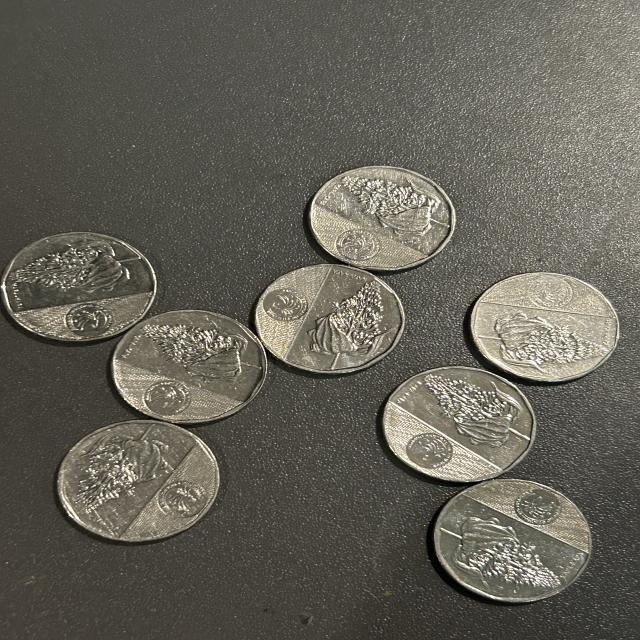10_New_Back: (447, 495, 578, 597), (408, 376, 525, 479), (19, 233, 140, 332), (322, 160, 436, 264), (135, 324, 256, 419), (76, 434, 193, 528), (491, 276, 599, 368), (271, 276, 377, 361)
